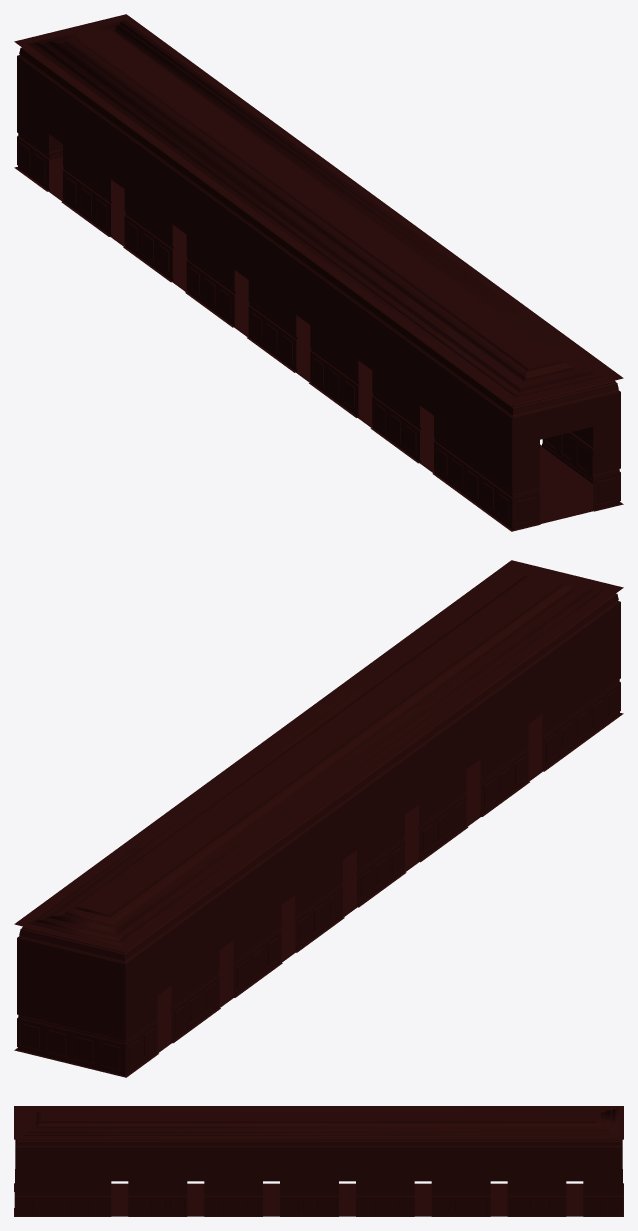
Rendered from intro_hallway.fbx.
The picture shows the model from 3 angles, top to bottom: view 1: azimuth 30°, elevation 25°; view 2: azimuth 150°, elevation 25°; view 3: azimuth 270°, elevation 25°; orthographic projection. The views are drawn at different scales.
Visible parts, largest first — view 1: end hall, ceiling, floor; view 2: end hall, ceiling, floor; view 3: end hall, ceiling, floor.
Part boxes in pixels (left/top/right/bottom): end hall: left=14, top=14, right=623, bottom=531; ceiling: left=22, top=19, right=611, bottom=402; floor: left=16, top=157, right=621, bottom=530; end hall: left=14, top=560, right=623, bottom=1077; ceiling: left=26, top=565, right=615, bottom=948; floor: left=16, top=713, right=621, bottom=1076; end hall: left=14, top=1106, right=623, bottom=1216; ceiling: left=19, top=1108, right=618, bottom=1137; floor: left=14, top=1183, right=623, bottom=1216.
Size of the model in its own units: 165 by 1267 by 192.
